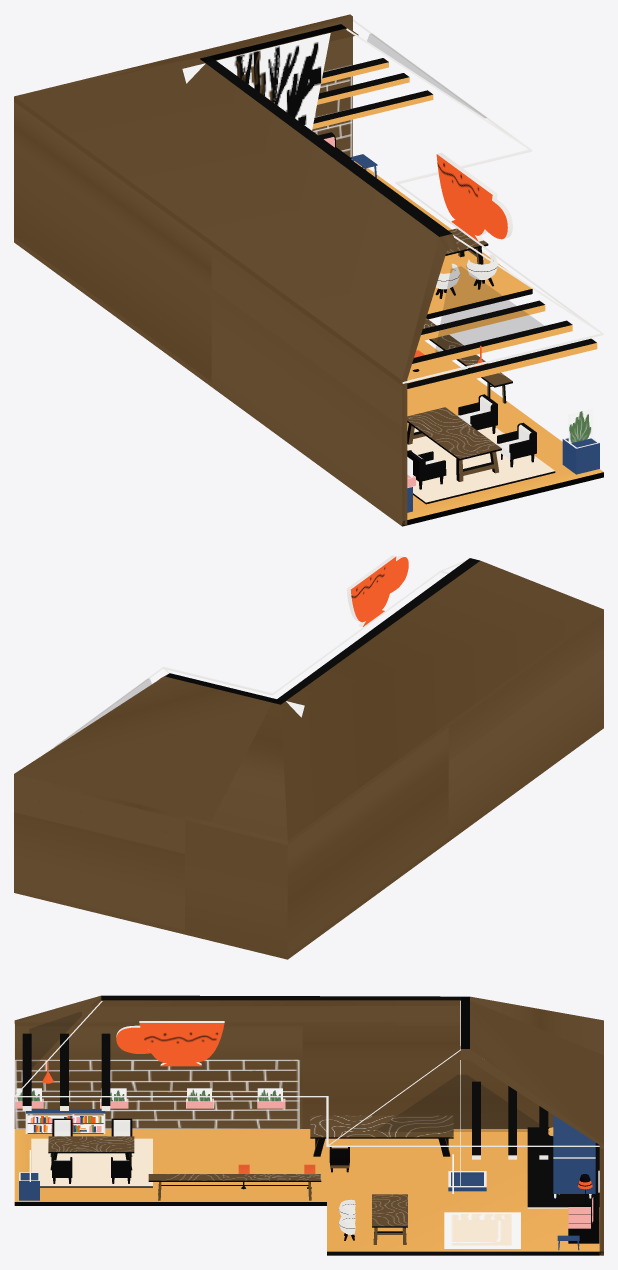
3 views of the same model, one above another, from view 1: azimuth 30°, elevation 25°; view 2: azimuth 150°, elevation 25°; view 3: azimuth 270°, elevation 25° (orthographic). The views are drawn at different scales.
Visible parts, largest first — view 1: 咖啡厅, 树, 立方体_3_4, 立方体_2, 杯子, 桌子_1, 立方体_3_3, 立方体_4_4, 立方体_1_3, 立方体_2_3, 立方体_3_2, 花盘_1 (+8 smaller); view 2: 咖啡厅, 杯子, 立方体_4_4; view 3: 咖啡厅, 立方体_4_3, 杯子, 立方体_2, 桌子_5, 地毯, 书架, 立方体_1, 桌子_1, 桌子_2, 桌子_3, 立方体_4_4 (+17 smaller).
Boxes of the visible parts, bbox=[...] form: 咖啡厅: bbox=[14, 14, 603, 526]; 树: bbox=[182, 33, 330, 130]; 立方体_3_4: bbox=[436, 267, 543, 351]; 立方体_2: bbox=[407, 427, 555, 504]; 杯子: bbox=[436, 152, 512, 241]; 桌子_1: bbox=[407, 407, 501, 481]; 立方体_3_3: bbox=[407, 338, 597, 395]; 立方体_4_4: bbox=[353, 19, 603, 383]; 立方体_1_3: bbox=[410, 320, 572, 370]; 立方体_2_3: bbox=[419, 300, 545, 341]; 立方体_3_2: bbox=[312, 90, 433, 129]; 花盘_1: bbox=[562, 437, 599, 474]; 咖啡厅: bbox=[14, 558, 603, 959]; 杯子: bbox=[346, 555, 408, 626]; 立方体_4_4: bbox=[40, 571, 449, 756]; 咖啡厅: bbox=[14, 995, 603, 1255]; 立方体_4_3: bbox=[375, 1075, 549, 1131]; 杯子: bbox=[116, 1021, 224, 1066]; 立方体_2: bbox=[31, 1138, 152, 1187]; 桌子_5: bbox=[310, 1115, 453, 1156]; 地毯: bbox=[444, 1212, 520, 1248]; 书架: bbox=[553, 1115, 595, 1193]; 立方体_1: bbox=[527, 1127, 599, 1208]; 桌子_1: bbox=[48, 1136, 134, 1170]; 桌子_2: bbox=[148, 1174, 321, 1200]; 桌子_3: bbox=[372, 1194, 407, 1244]; 立方体_4_4: bbox=[14, 1021, 599, 1146].
Size of the model in its own units: 1000 by 652 by 2002.
